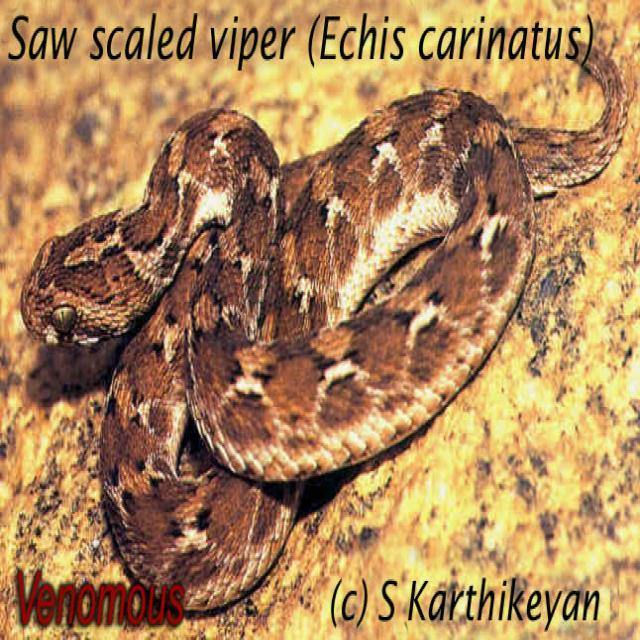Snake: (18, 30, 628, 612)
